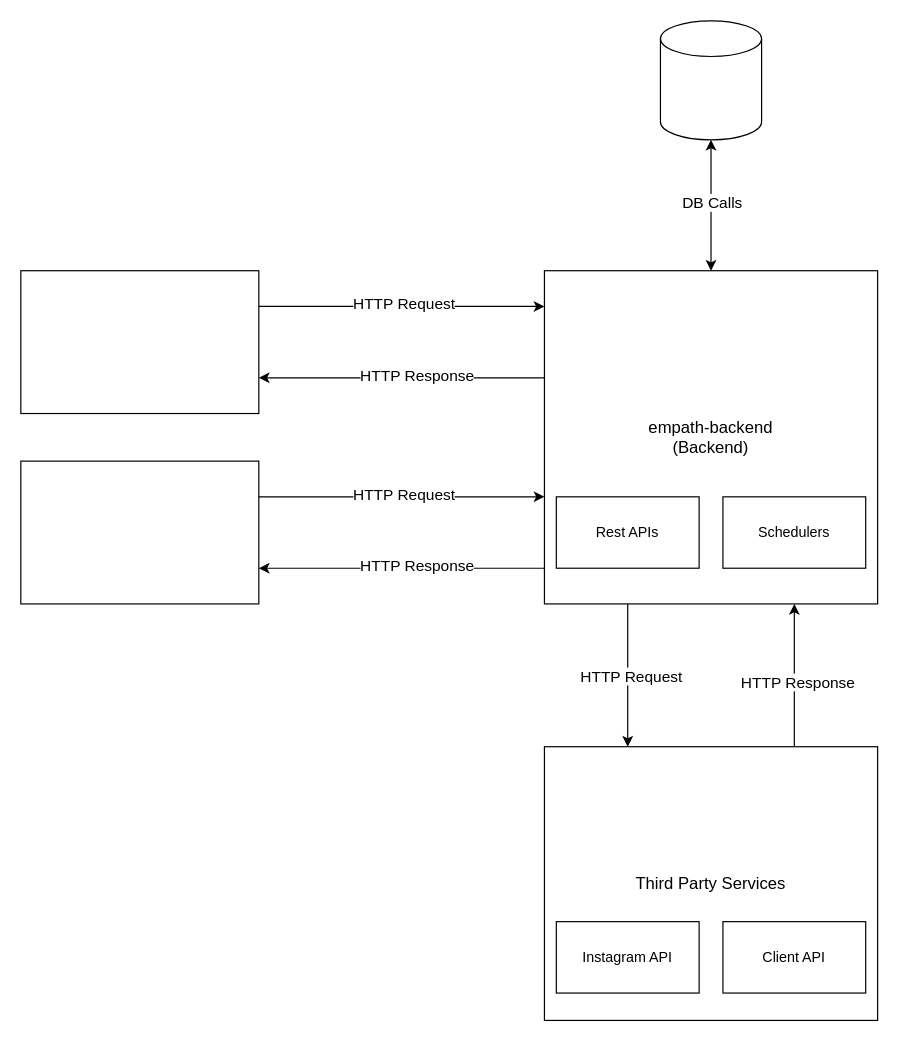
The diagram is 898 pixels wide and 1041 high, and some of its shapes have lost their labels. Each missing label, with the centre of its shape:
"empath-admin-ui (Frontend)" belongs at point (139, 532).
"empath-ui (Frontend)" belongs at point (139, 342).
"MySql DB (Database)" belongs at point (710, 80).
